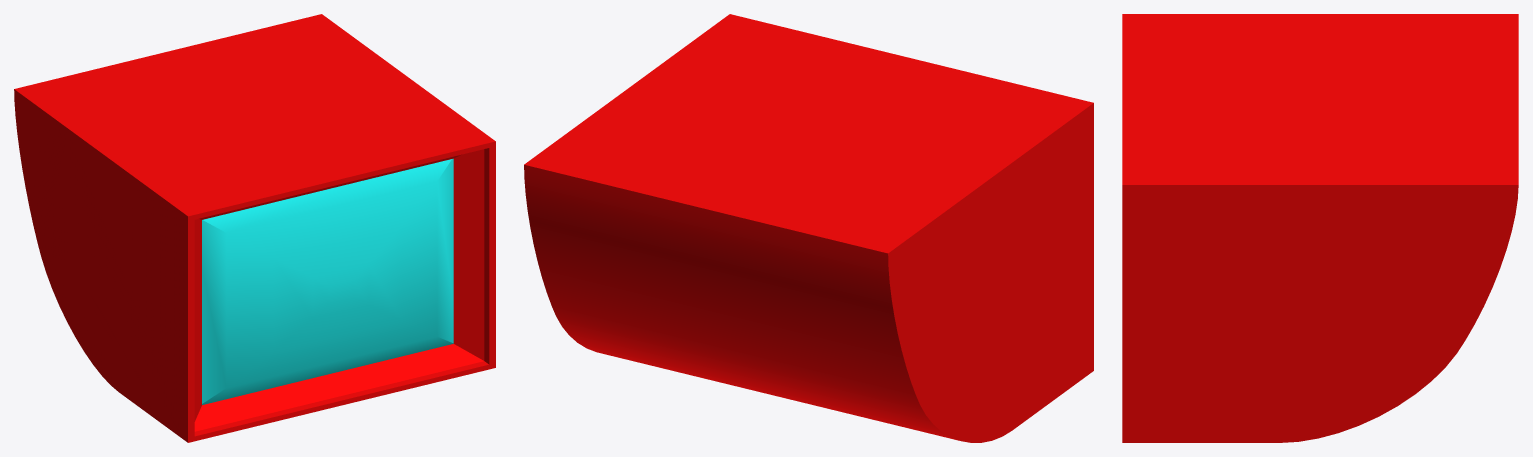
Rendered from MCCTV.fbx.
3 renders of one model, left to right at view 1: azimuth 30°, elevation 25°; view 2: azimuth 150°, elevation 25°; view 3: azimuth 270°, elevation 25°, orthographic. The views are drawn at different scales.
Parts seen in each view (by area): view 1: tv; view 2: tv; view 3: tv.
Boxes of the visible parts, x1,y1,x2,y2 form: tv: (14, 14, 495, 442); tv: (524, 14, 1093, 442); tv: (1122, 14, 1518, 442).
Bounding box in the file's own units: 89.65 × 63.06 × 87.8.
